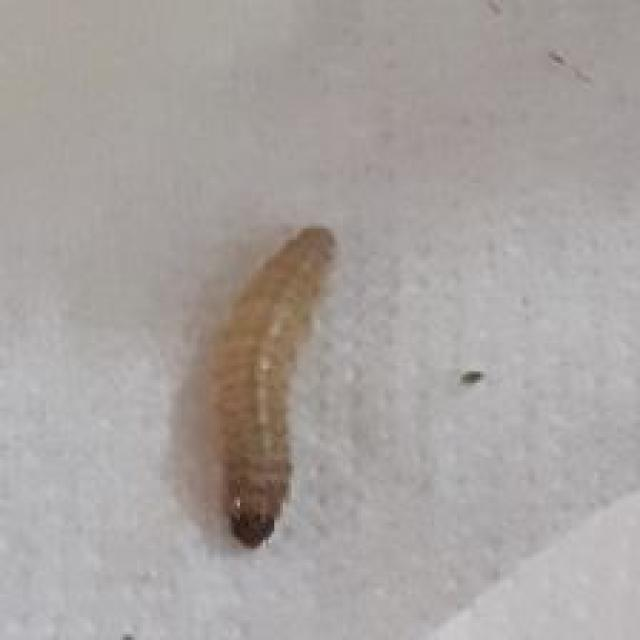white mucus: (178, 199, 362, 573)
